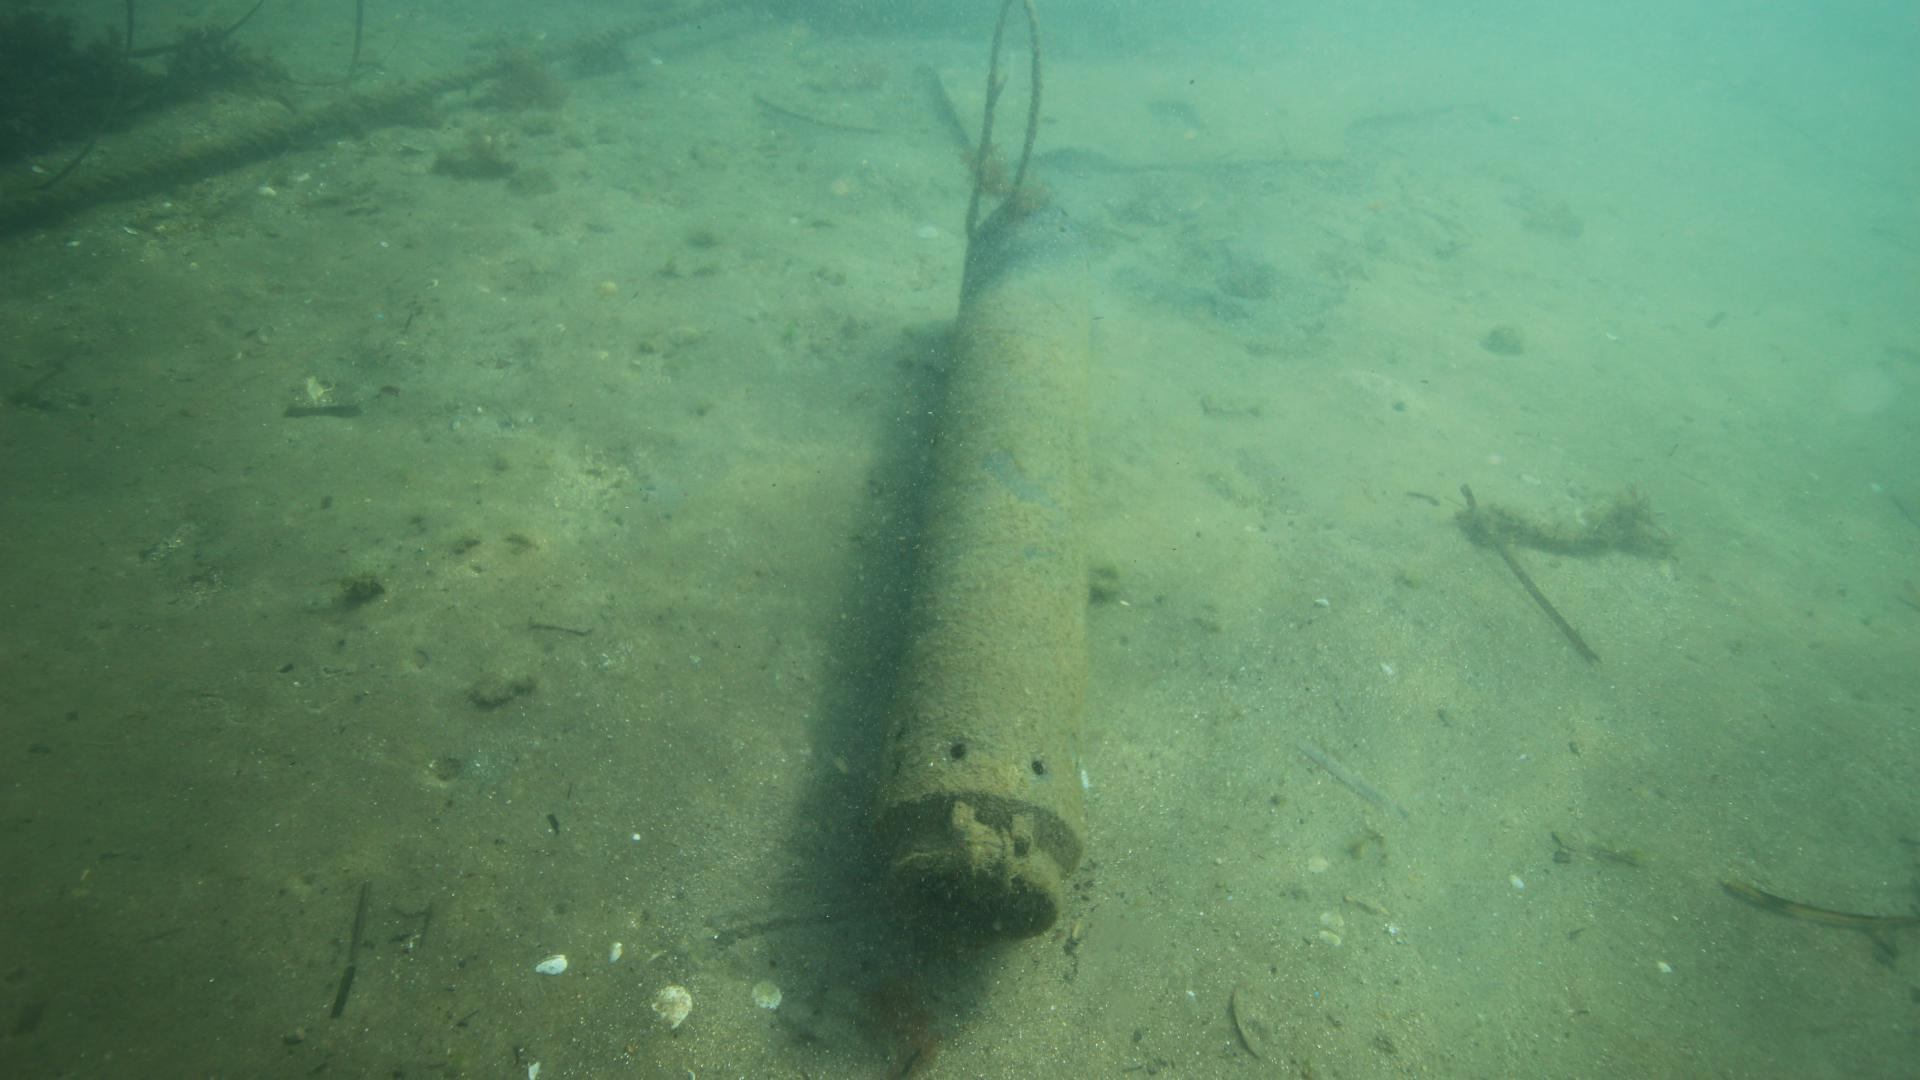eel fish trap: (857, 194, 1109, 945)
rope: (0, 0, 742, 223), (963, 0, 1042, 235)
